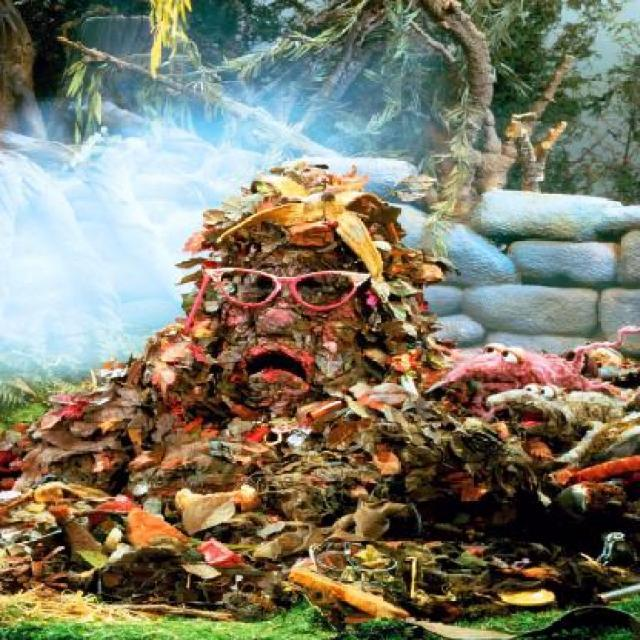garbage: (33, 385, 623, 588), (208, 182, 372, 233)
